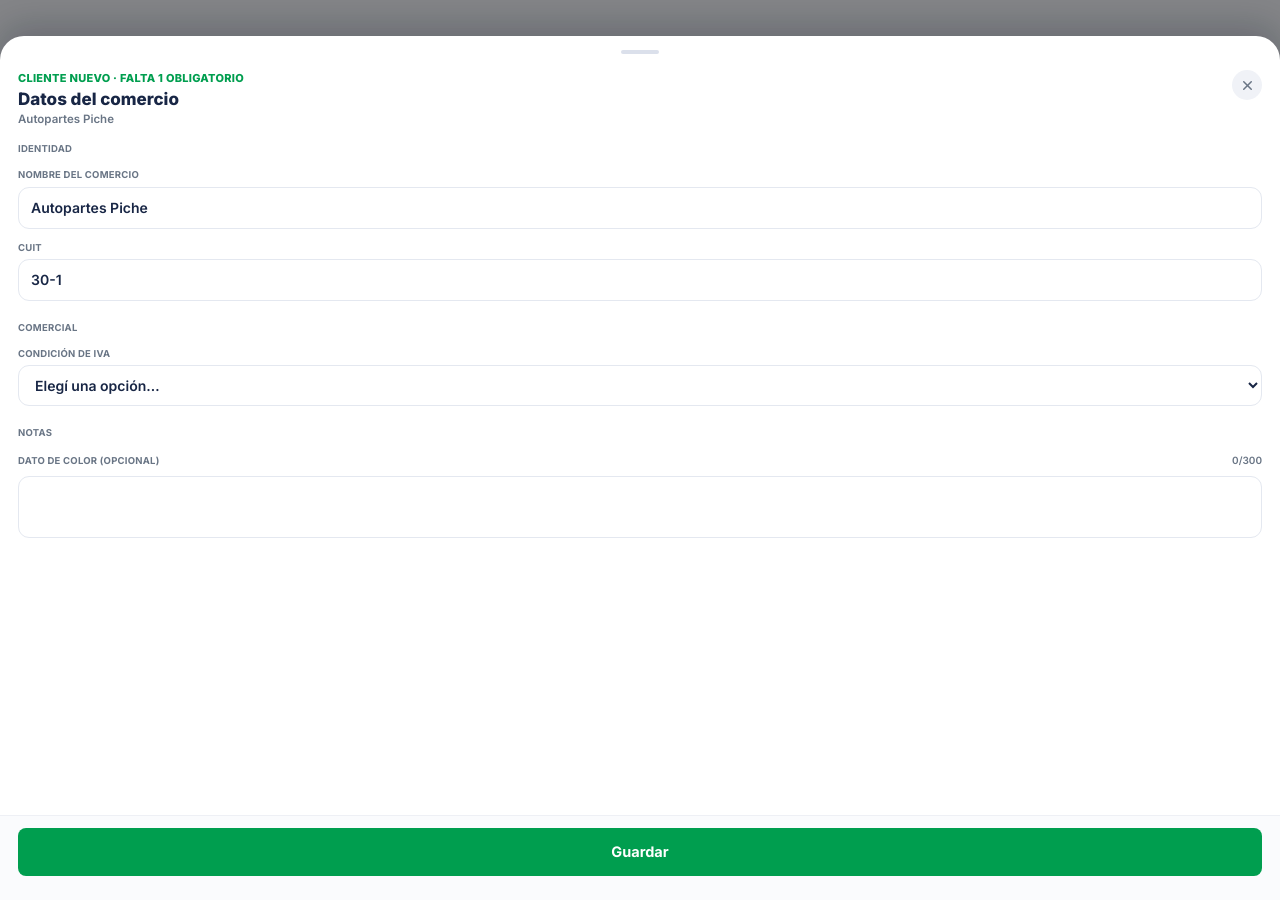
Scenario: error de red al guardar → aviso adentro del sheet, que sigue abierto con lo tipeado
This screenshot has width=1280, height=900.
Step 1. Replace the text in the field labelled "CUIT" with "30-9" → (640, 280), box [18, 259, 1262, 301]
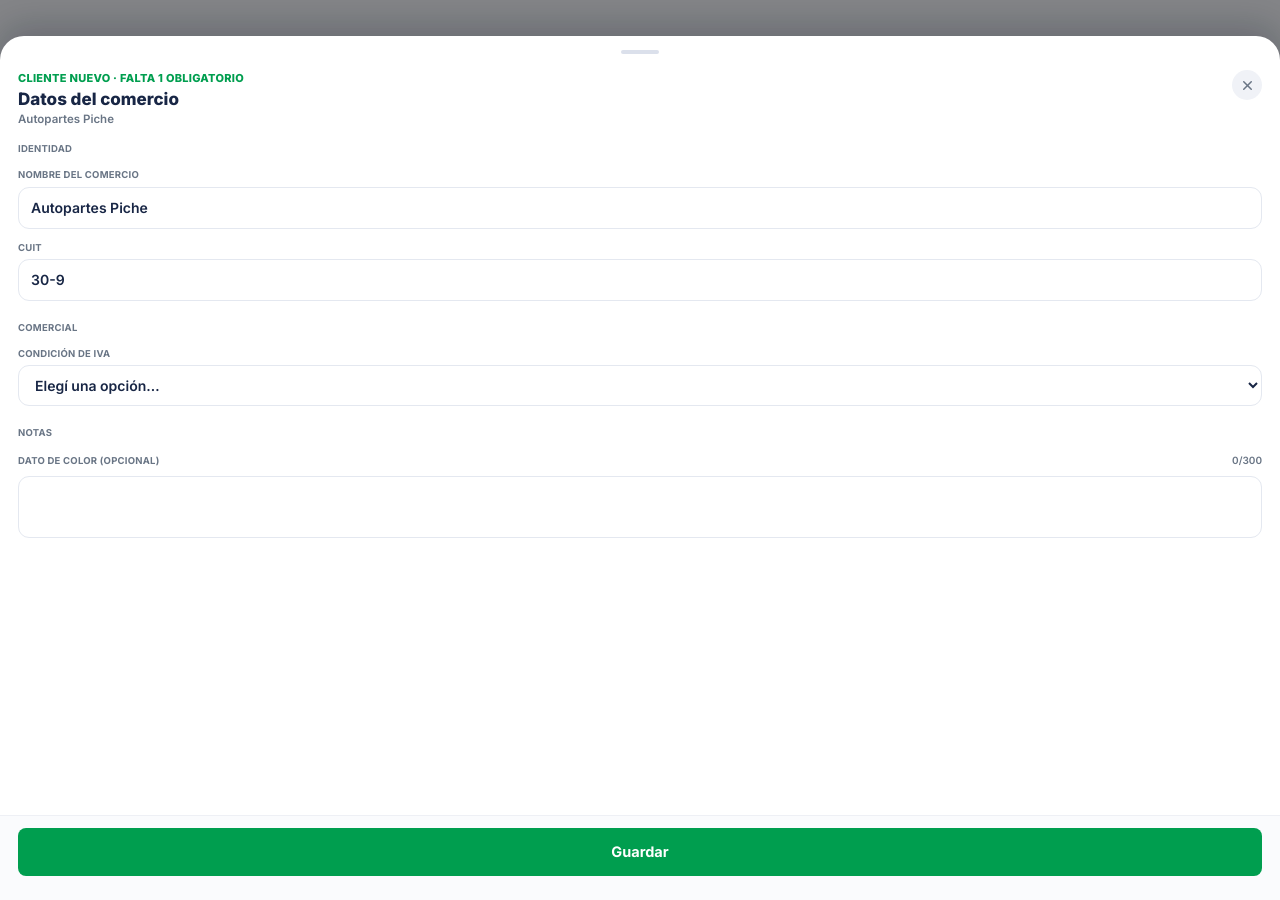
Step 2. Click the button "Guardar" → click(640, 852), box [18, 828, 1262, 876]
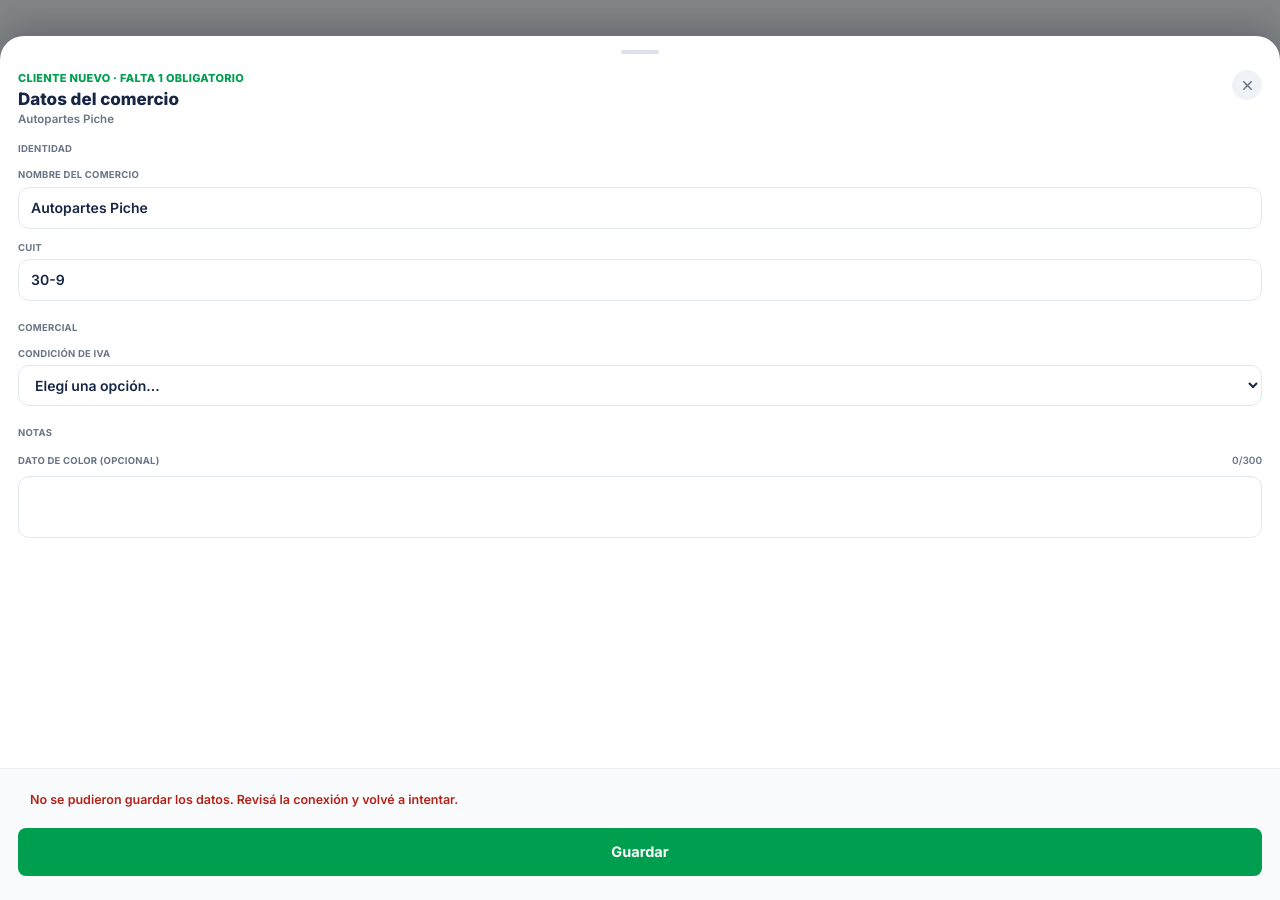
Now the message shows "Revisá la conexión", box [30, 792, 458, 807]
